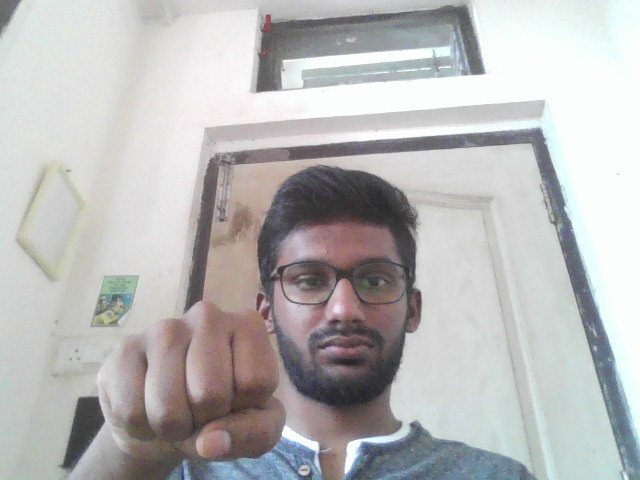No: (91, 300, 289, 467)
